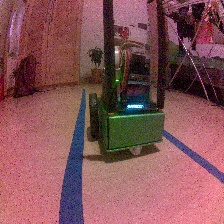rob: (88, 53, 165, 156)
